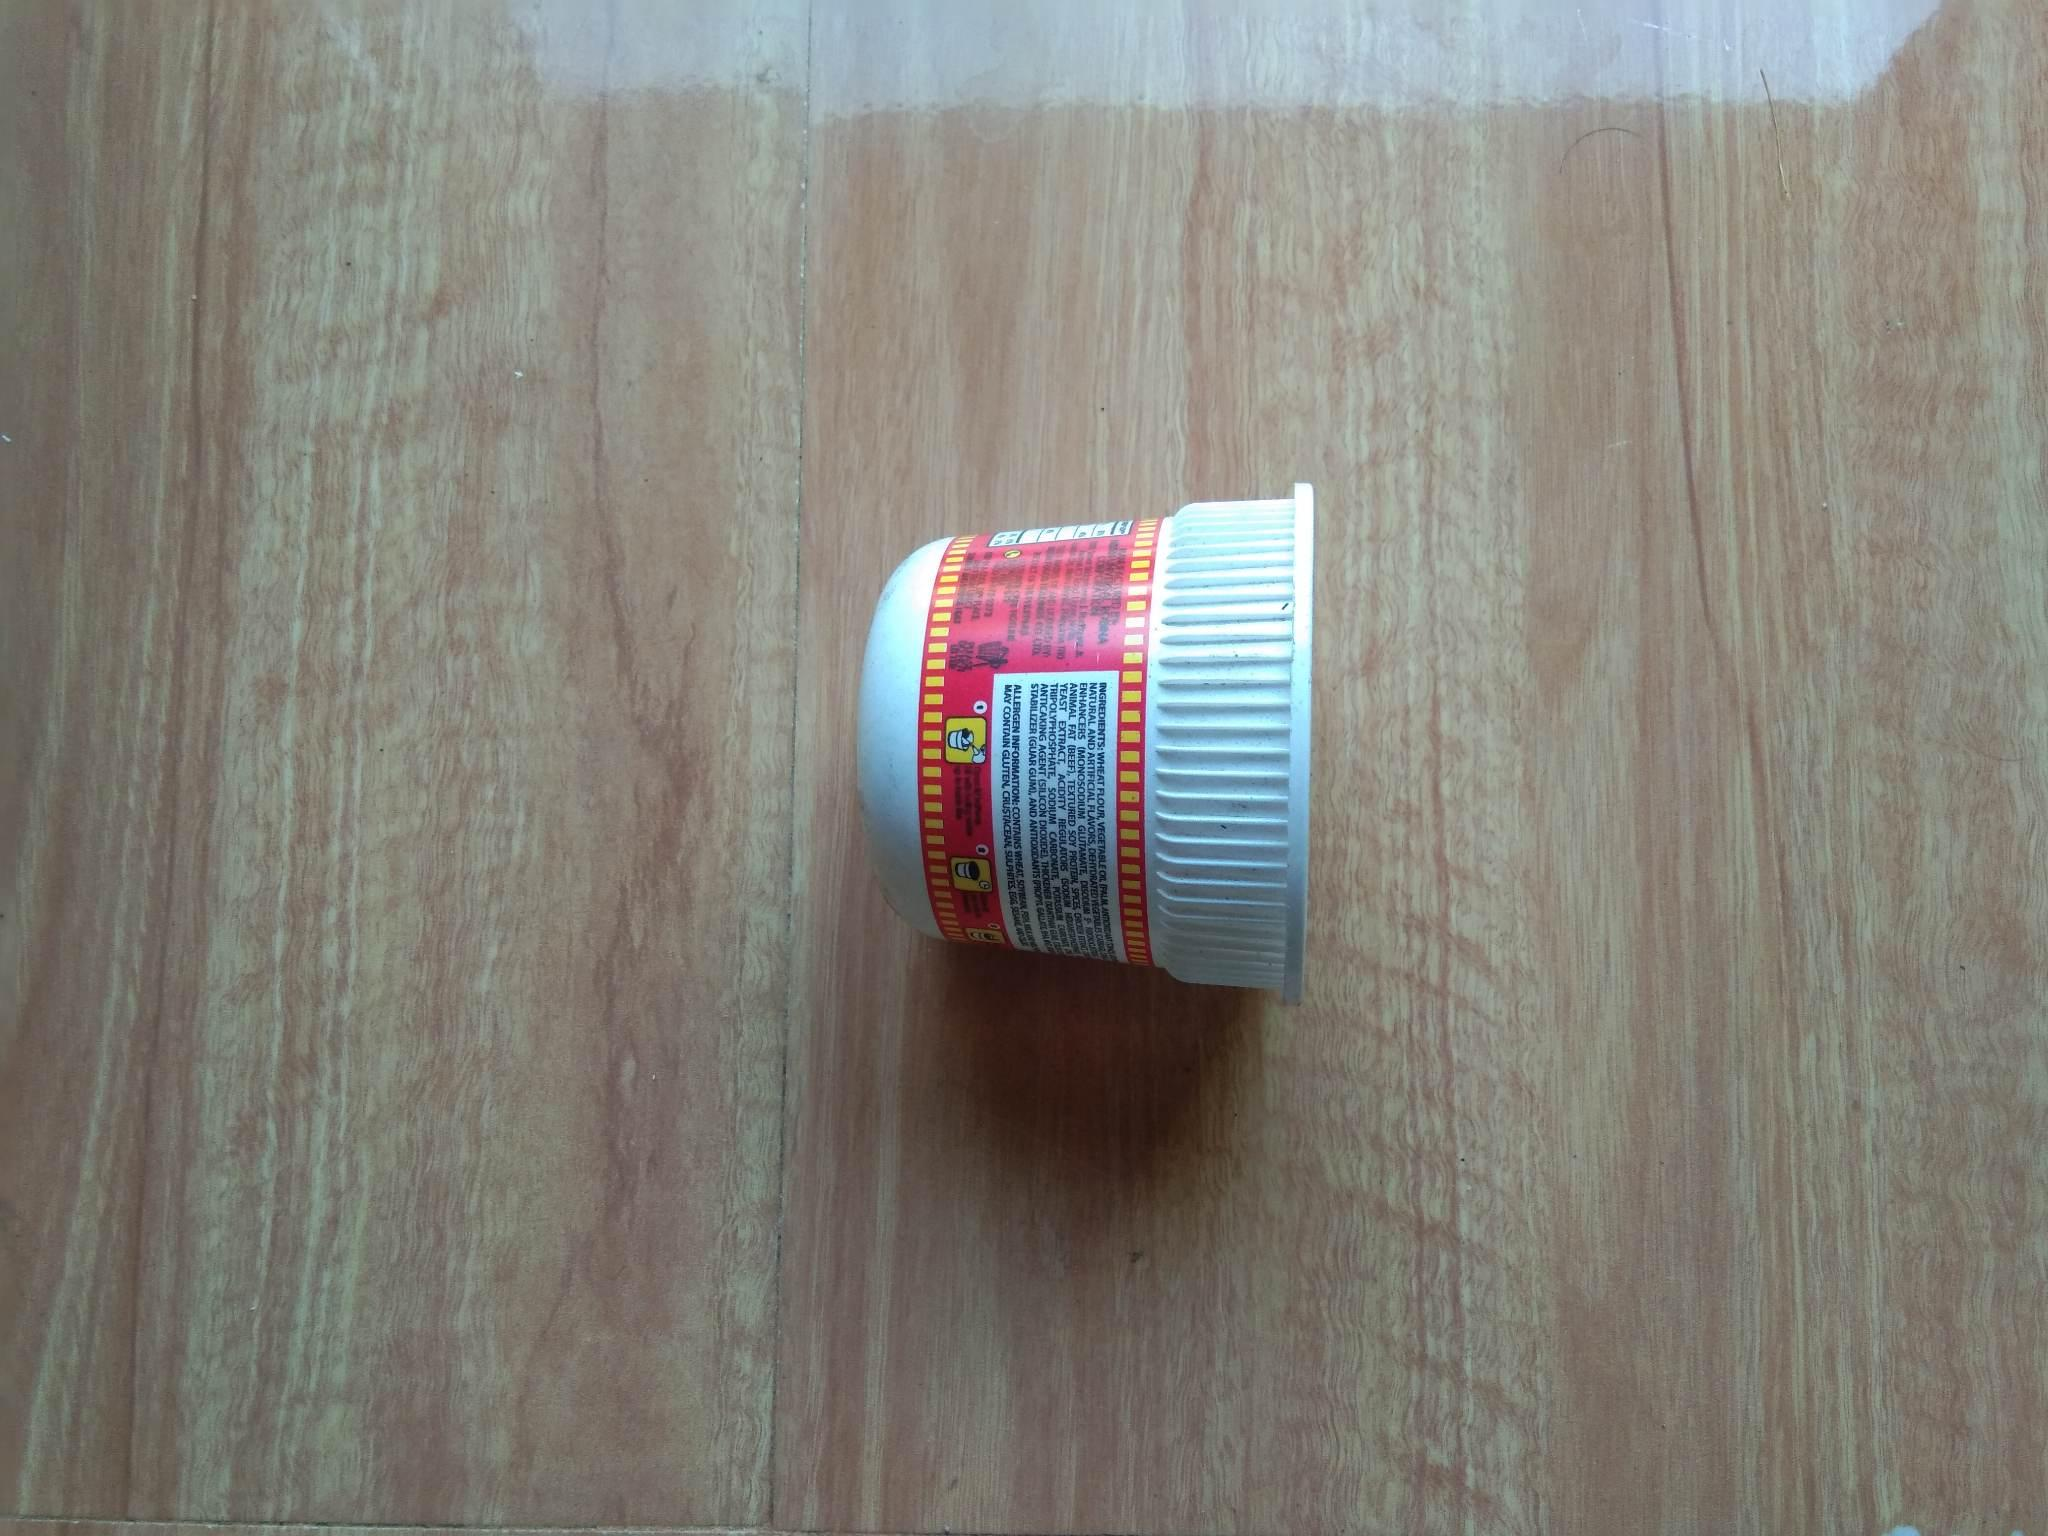plastic: (776, 361, 1476, 1147)
